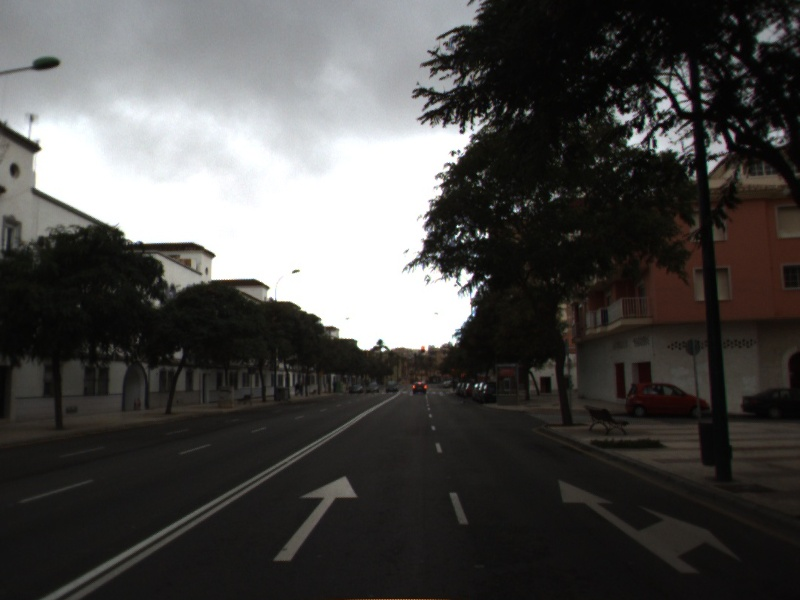STRAIGHT: (271, 473, 359, 563)
STRAIGHT_RIGHT: (557, 478, 743, 575)
